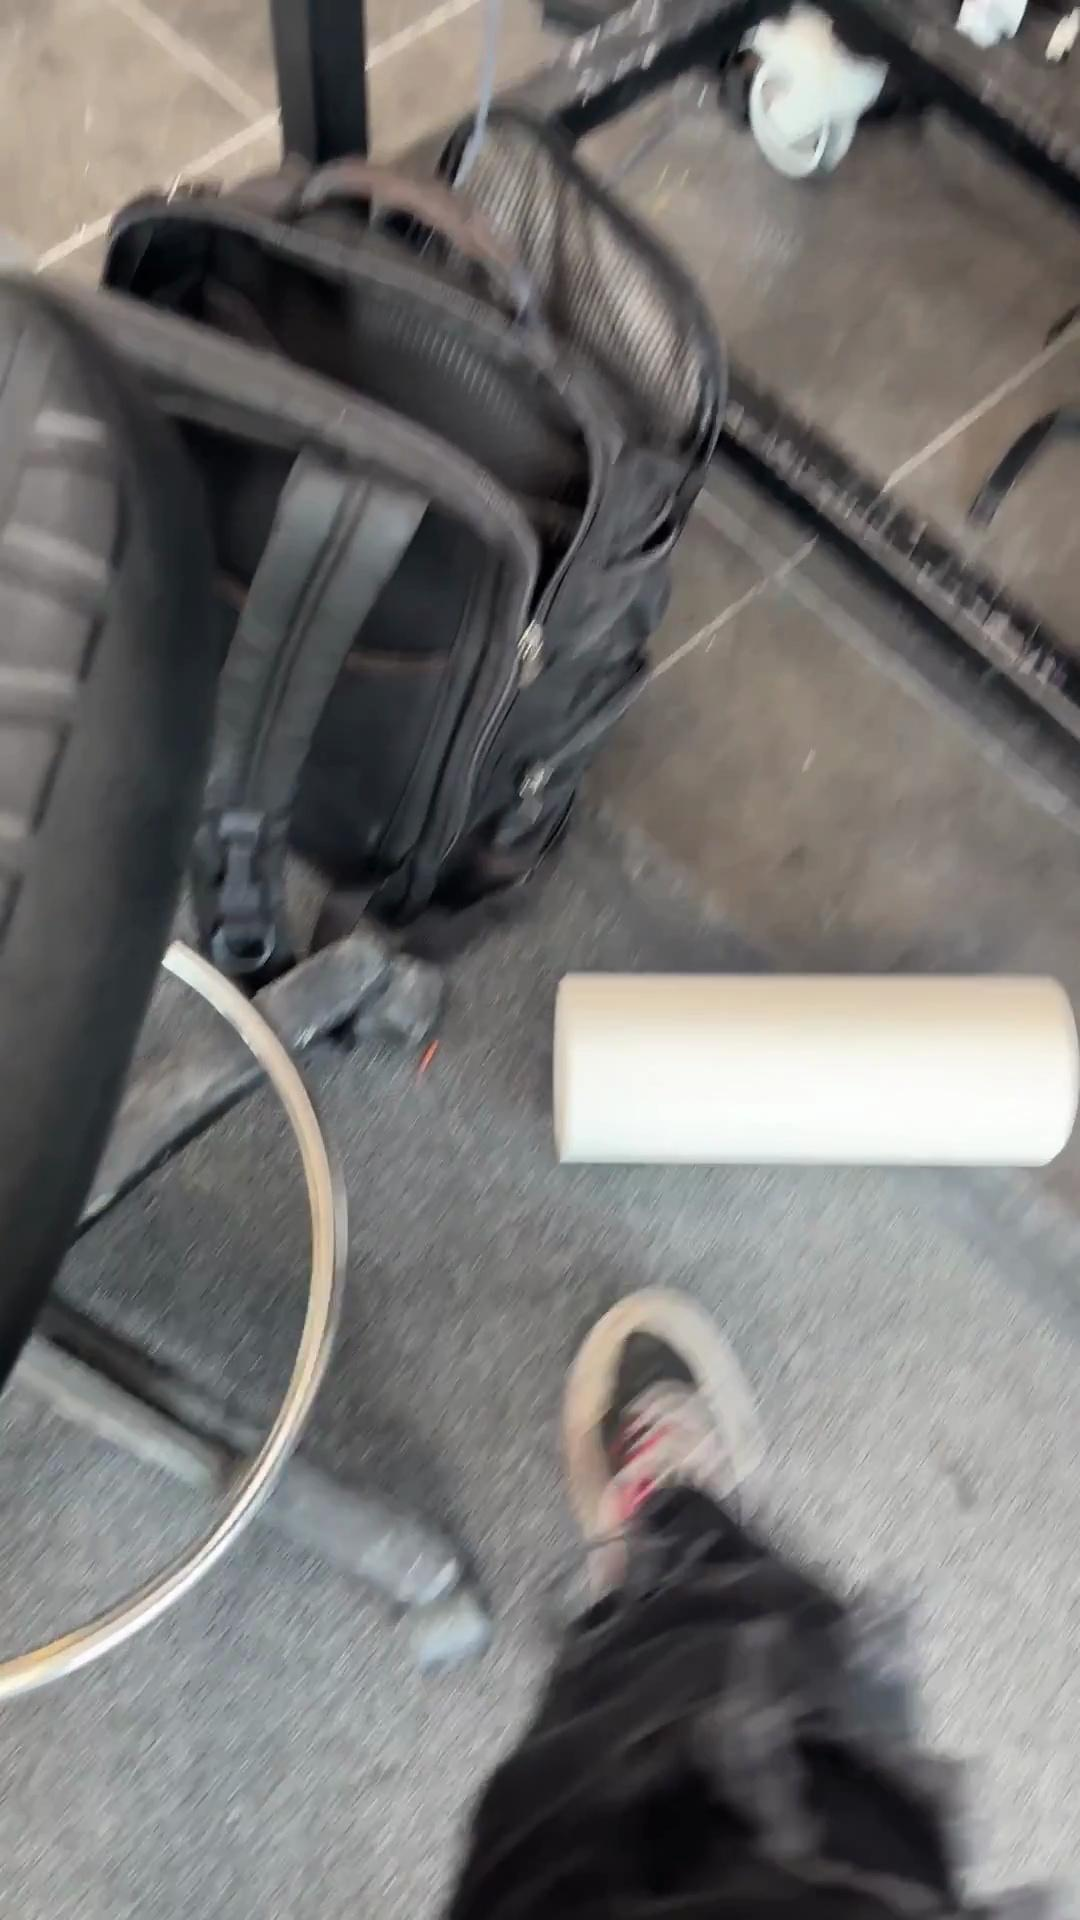CORAL: (549, 967, 1076, 1170)
